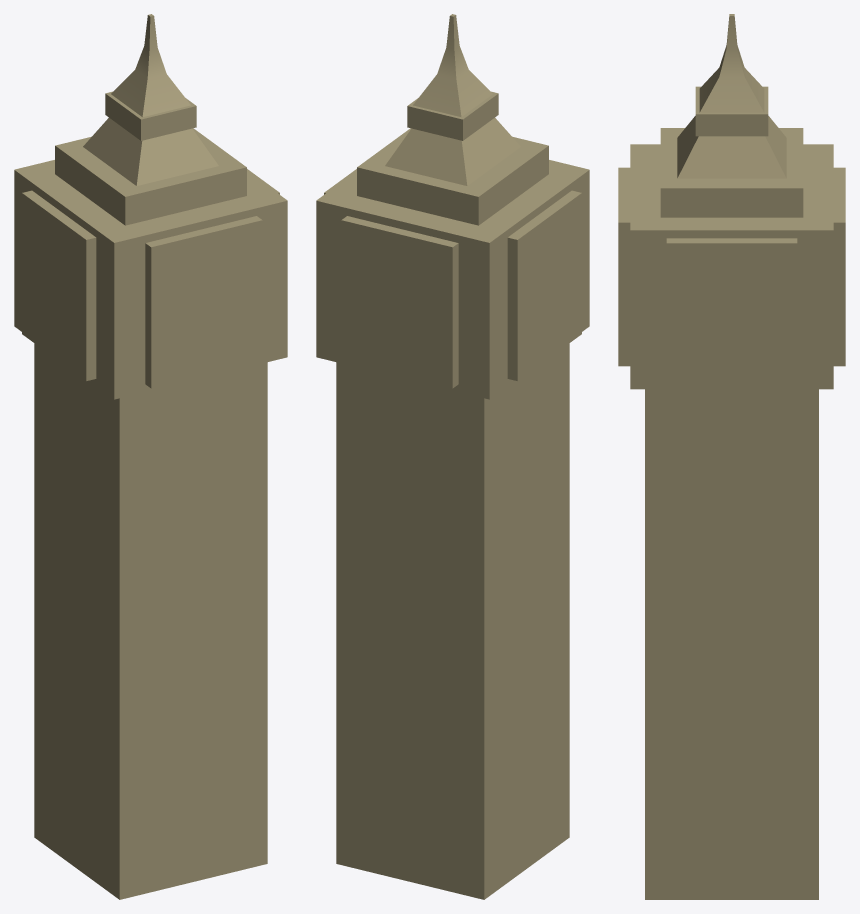
The model's file is BigBen.fbx.
The picture shows the model from 3 angles, left to right: view 1: azimuth 30°, elevation 25°; view 2: azimuth 150°, elevation 25°; view 3: azimuth 270°, elevation 25°; orthographic projection.
Visible parts, largest first — view 1: pCube40; view 2: pCube40; view 3: pCube40.
Part boxes in pixels (x1,y1,x2,y2): pCube40: [14, 14, 287, 899]; pCube40: [316, 14, 589, 899]; pCube40: [618, 14, 845, 899].
Bounding box in the file's own units: 4.47 × 18.43 × 4.47.
